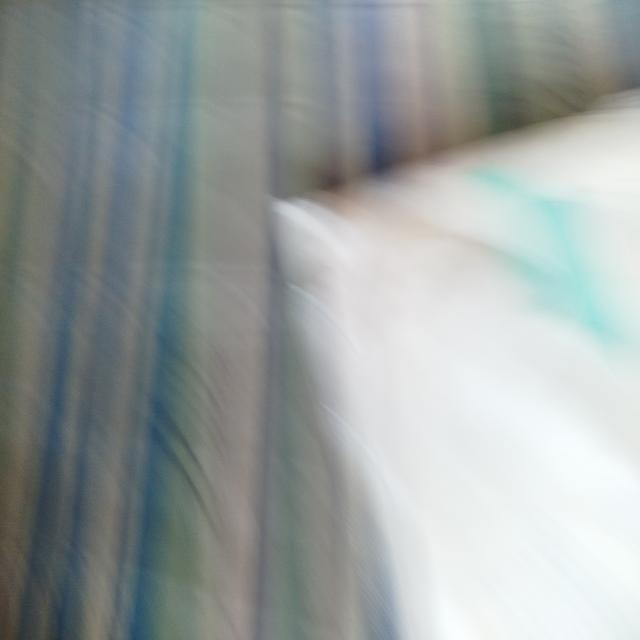residual: (249, 85, 640, 640)
